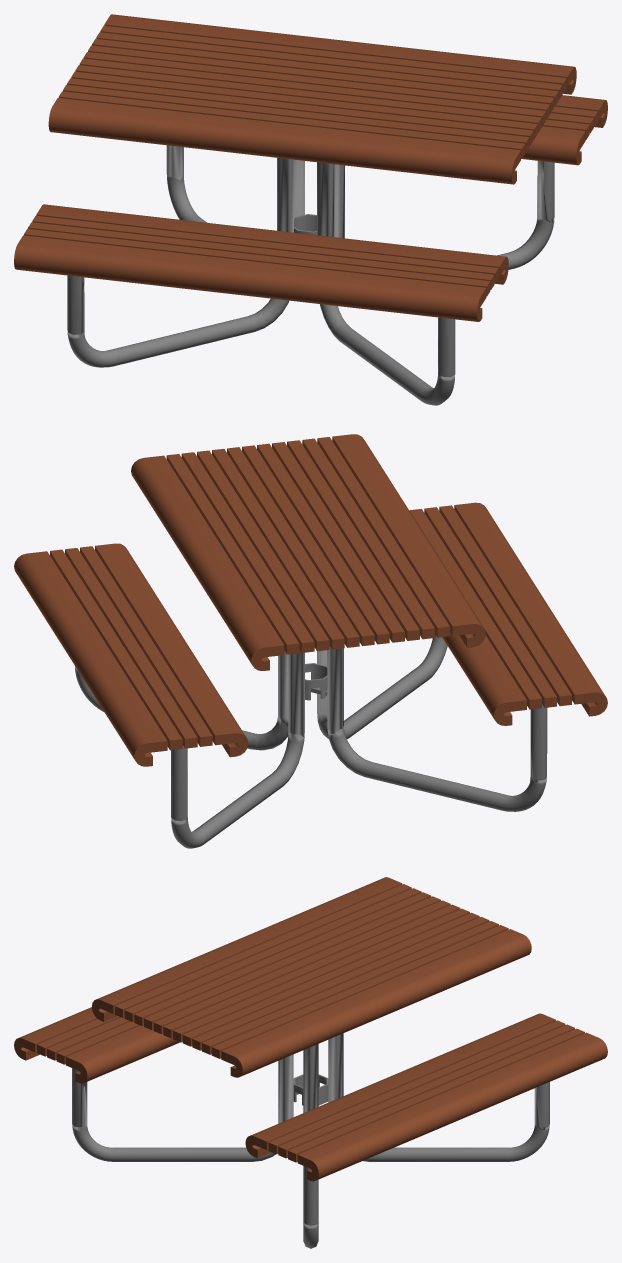
Rendered from bench_1.fbx.
3 views of the same model, one above another, from view 1: azimuth 30°, elevation 25°; view 2: azimuth 150°, elevation 25°; view 3: azimuth 270°, elevation 25° (orthographic). The views are drawn at different scales.
Parts seen in each view (by area): view 1: Component_5_3, Component_5_6, Component_2_2, Component_5_5, Component_5_4, Component_2_4, Component_3_1, Component_3_7, Component_3_4, Component_3_5, Component_3_6, Component_3_8 (+12 smaller); view 2: Component_5_1, Component_5_5, Component_5_3, Component_5_2, Component_5_6, Component_2_2, Component_2_3, Component_5_4, Component_3_7, Component_3_6, Component_3_8, Component_3_2 (+16 smaller); view 3: Component_5_5, Component_5_1, Component_5_2, Component_5_6, Component_2_4, Component_2_3, Component_5_4, Component_3_16, Component_3_2, Component_3_5, Component_3_11, Component_3_8 (+15 smaller).
Boxes of the visible parts, x1=… form: Component_5_3: x1=14, y1=235, x2=486, y2=321; Component_5_6: x1=48, y1=98, x2=520, y2=184; Component_2_2: x1=67, y1=158, x2=293, y2=367; Component_5_5: x1=104, y1=14, x2=576, y2=94; Component_5_4: x1=36, y1=204, x2=508, y2=284; Component_2_4: x1=317, y1=162, x2=455, y2=405; Component_3_1: x1=71, y1=71, x2=537, y2=139; Component_3_7: x1=96, y1=32, x2=562, y2=99; Component_3_4: x1=83, y1=52, x2=550, y2=119; Component_3_5: x1=88, y1=45, x2=554, y2=113; Component_3_6: x1=92, y1=38, x2=558, y2=106; Component_3_8: x1=100, y1=25, x2=566, y2=93; Component_5_1: x1=14, y1=551, x2=167, y2=766; Component_5_5: x1=131, y1=455, x2=284, y2=670; Component_5_3: x1=454, y1=502, x2=607, y2=716; Component_5_2: x1=95, y1=543, x2=248, y2=757; Component_5_6: x1=332, y1=434, x2=485, y2=647; Component_2_2: x1=327, y1=646, x2=547, y2=811; Component_2_3: x1=171, y1=649, x2=304, y2=848; Component_5_4: x1=442, y1=632, x2=526, y2=725; Component_3_7: x1=181, y1=452, x2=314, y2=652; Component_3_6: x1=197, y1=450, x2=329, y2=651; Component_3_8: x1=166, y1=454, x2=299, y2=654; Component_3_2: x1=257, y1=443, x2=389, y2=644; Component_5_5: x1=221, y1=929, x2=531, y2=1077; Component_5_1: x1=297, y1=1032, x2=607, y2=1181; Component_5_2: x1=245, y1=1013, x2=555, y2=1158; Component_5_6: x1=92, y1=877, x2=402, y2=1021; Component_2_4: x1=72, y1=1054, x2=293, y2=1161; Component_2_3: x1=328, y1=1033, x2=549, y2=1161; Component_5_4: x1=66, y1=1025, x2=179, y2=1083; Component_3_16: x1=124, y1=888, x2=421, y2=1021; Component_3_2: x1=153, y1=900, x2=450, y2=1034; Component_3_5: x1=182, y1=912, x2=479, y2=1046; Component_3_11: x1=268, y1=1020, x2=565, y2=1154; Component_3_8: x1=211, y1=925, x2=508, y2=1058.
Size of the model in its own units: 78.46 by 28.48 by 78.48.
